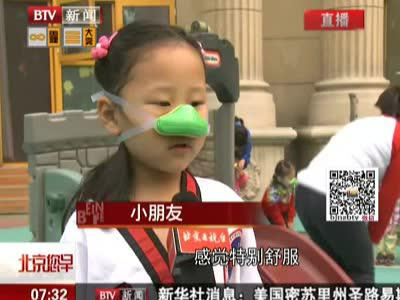WRONG: (125, 77, 215, 167)
